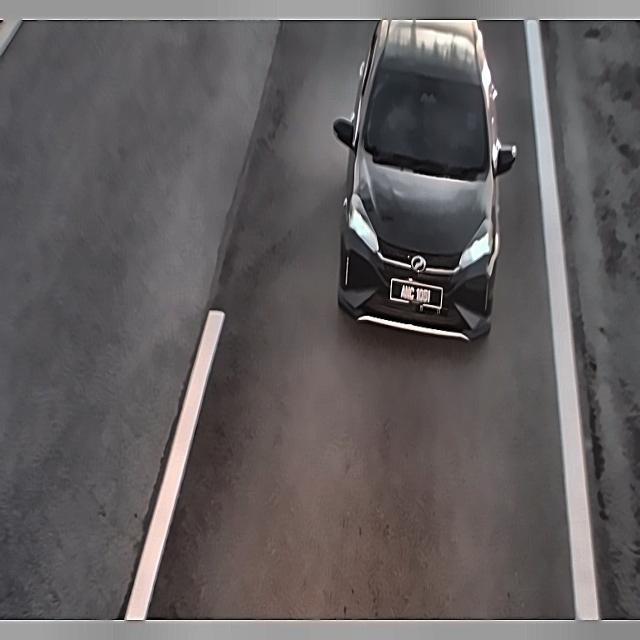car: (389, 265, 444, 318)
